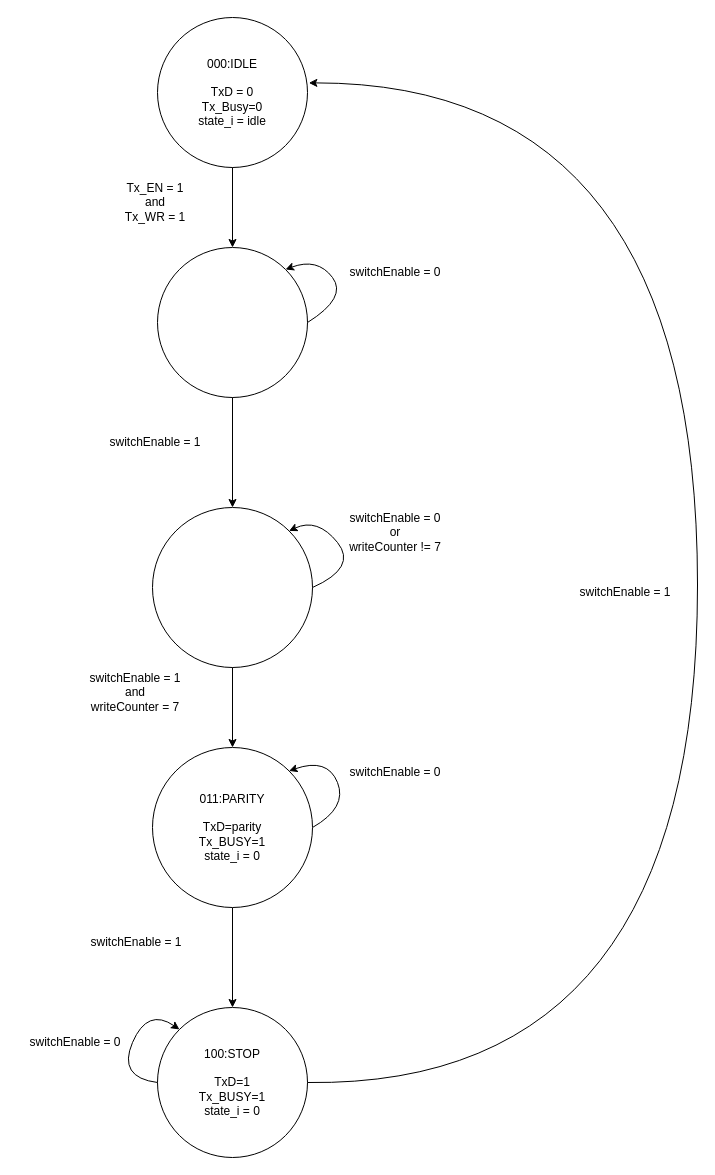
This 715x1175 diagram has some shape labels left out. The shapes that lost their labels are listed below. From the top down, each one's box as (x1, y1, x2, y2) in pixels, then its label:
(156, 246, 308, 398): 001:START TxD=1 Tx_BUSY=1 state_i = 0
(152, 506, 312, 668): 010:DATA TxD=TxData[writeCounter] Tx_BUSY = 1 state_i = data
